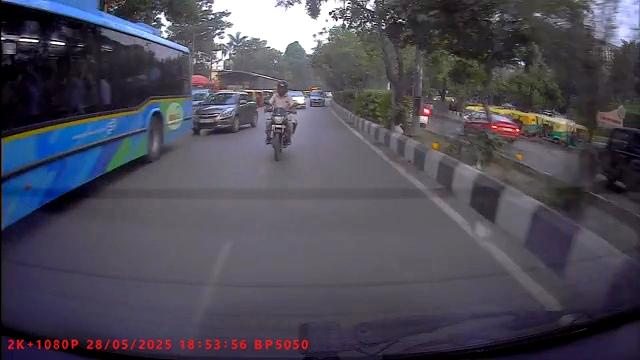motorcycle_with_helmet: (264, 79, 299, 163)
